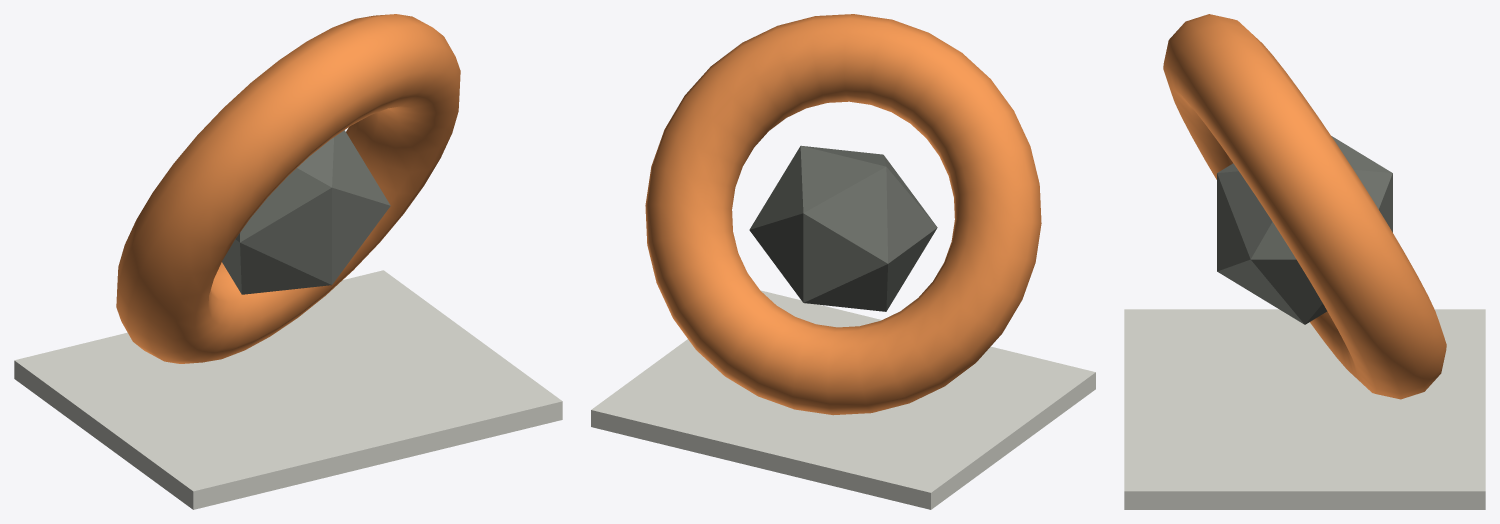
The model's file is nesomn-abstract-form.glb.
3 renders of one model, left to right at view 1: azimuth 30°, elevation 25°; view 2: azimuth 150°, elevation 25°; view 3: azimuth 270°, elevation 25°, orthographic. The views are drawn at different scales.
Parts seen in each view (by area): view 1: Abstract Form 2, Abstract Form 0, Abstract Form 1; view 2: Abstract Form 0, Abstract Form 2, Abstract Form 1; view 3: Abstract Form 2, Abstract Form 0, Abstract Form 1.
Boxes of the visible parts, box(x1,y1,x2,y2) form: Abstract Form 2: box(14, 270, 562, 509); Abstract Form 0: box(116, 14, 460, 363); Abstract Form 1: box(222, 130, 390, 294); Abstract Form 0: box(645, 14, 1041, 415); Abstract Form 2: box(591, 290, 1095, 509); Abstract Form 1: box(749, 145, 937, 311); Abstract Form 2: box(1124, 309, 1485, 509); Abstract Form 0: box(1163, 14, 1446, 399); Abstract Form 1: box(1217, 136, 1392, 324).
Bounding box in the file's own units: 2.5 × 2.53 × 2.1.
